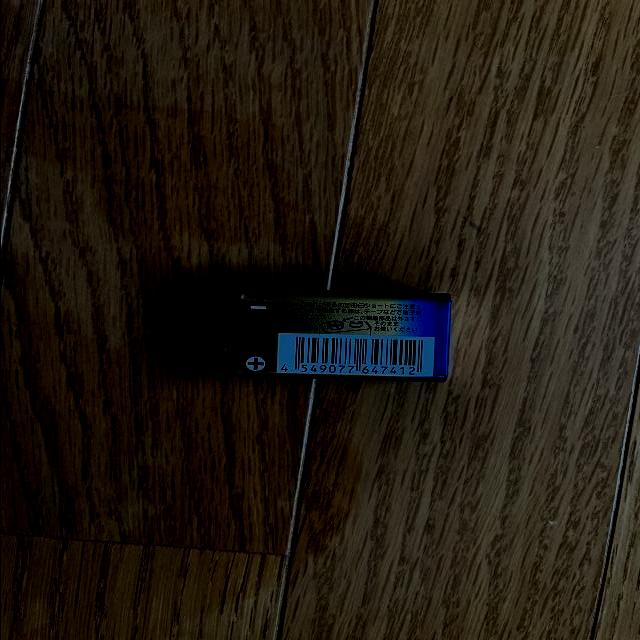9V: (216, 288, 452, 382)
